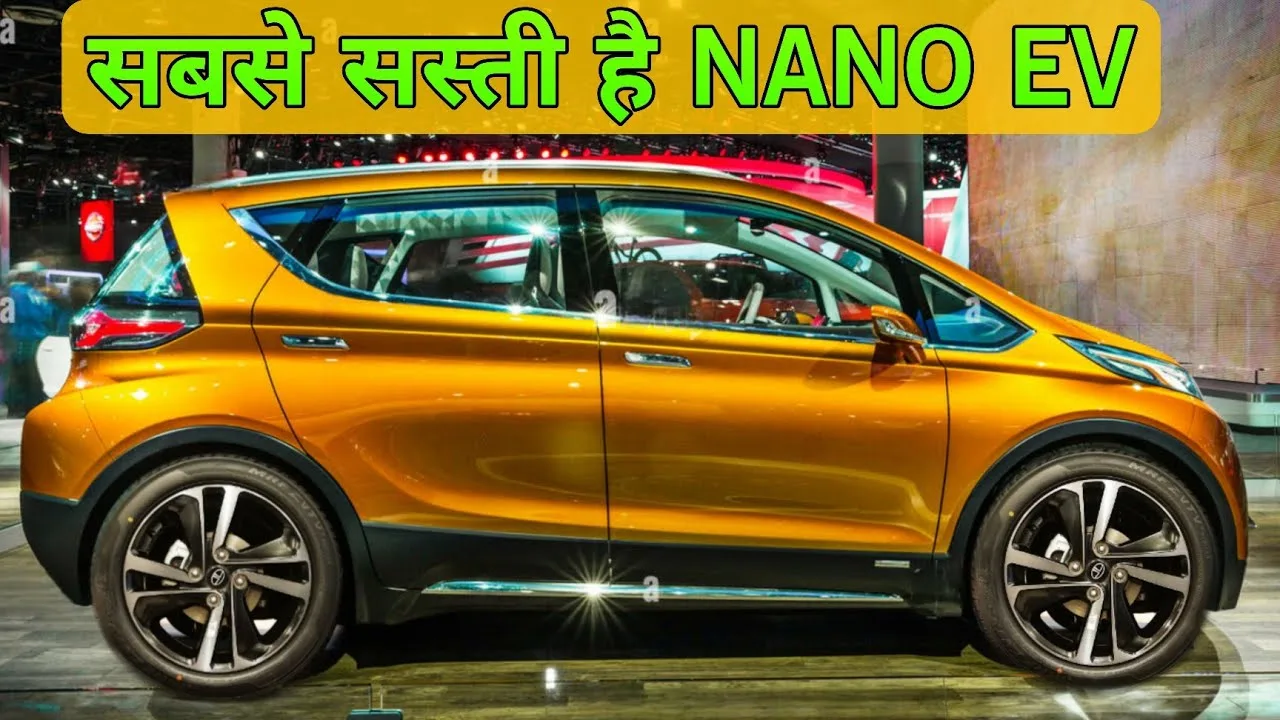Nano: (22, 157, 1253, 720)
